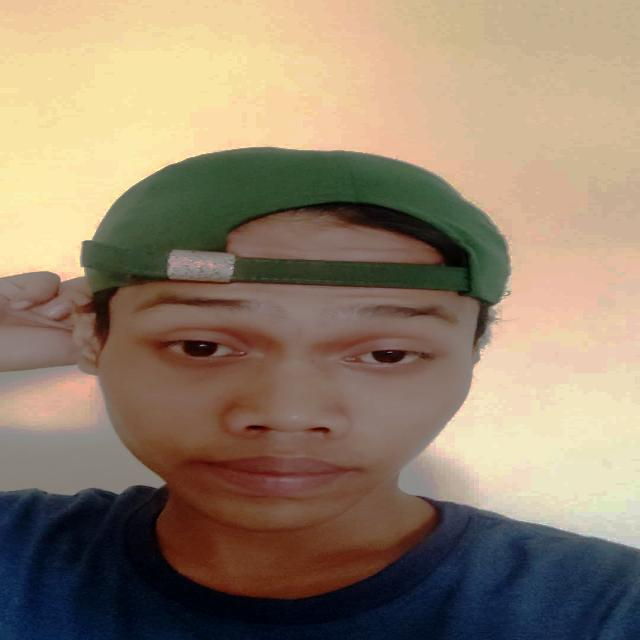TOPI: (71, 137, 522, 306)
